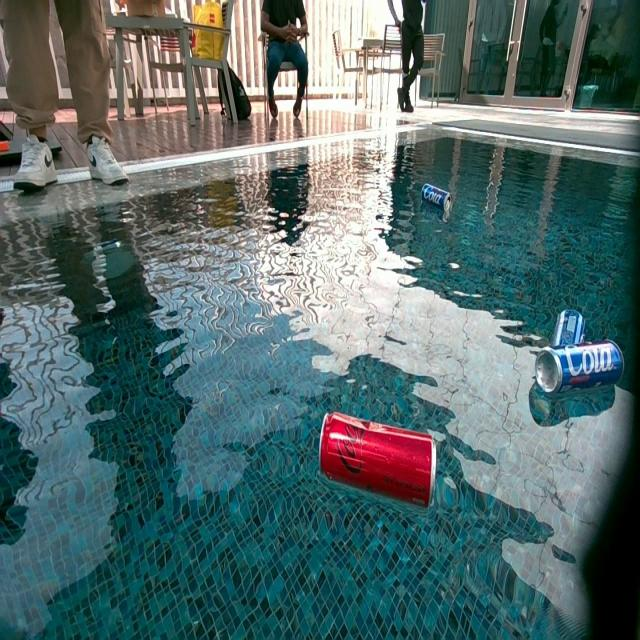Cans: (315, 413, 436, 514), (535, 341, 626, 398), (550, 309, 587, 342), (421, 183, 452, 211)
